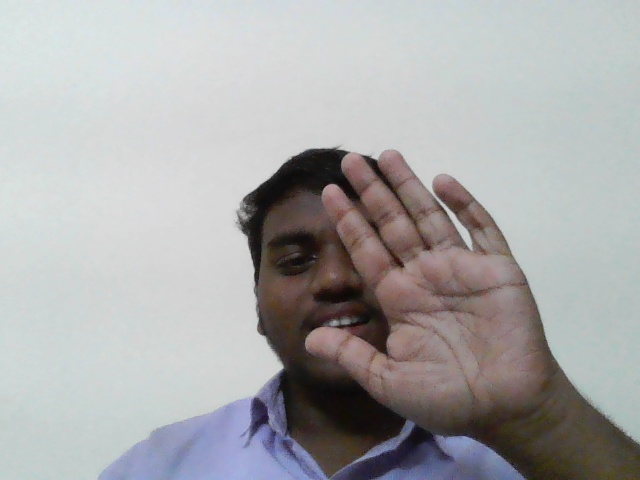Hello: (301, 143, 562, 436)
